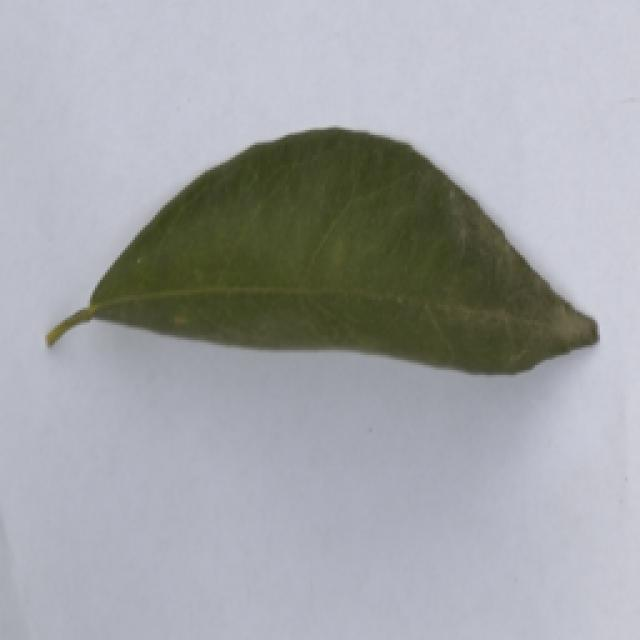healthy: (36, 124, 605, 431)
